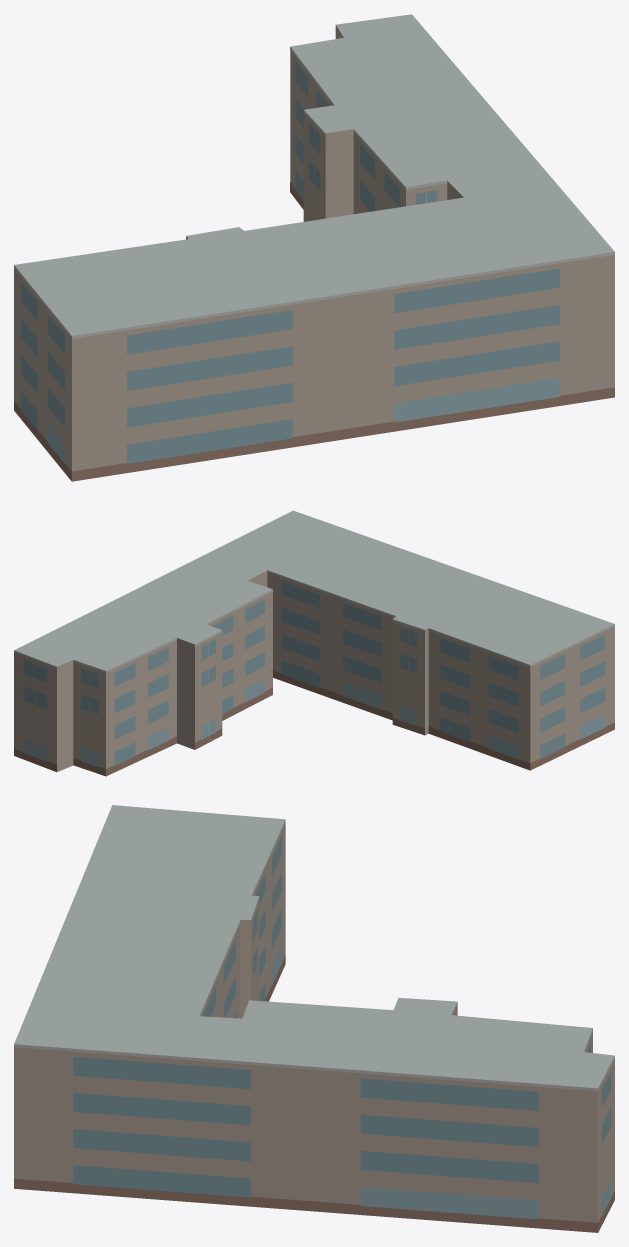
Rendered from survey-upis-32644544.glb.
3 renders of one model, top to bottom at view 1: azimuth 30°, elevation 25°; view 2: azimuth 150°, elevation 25°; view 3: azimuth 270°, elevation 25°, orthographic. The views are drawn at different scales.
Visible parts, largest first — view 1: survey-upis-32644544.tmp; view 2: survey-upis-32644544.tmp; view 3: survey-upis-32644544.tmp.
Boxes of the visible parts, left/top/right/bottom form: survey-upis-32644544.tmp: left=14, top=14, right=614, bottom=481; survey-upis-32644544.tmp: left=14, top=510, right=614, bottom=776; survey-upis-32644544.tmp: left=14, top=805, right=614, bottom=1232.
Bounding box in the file's own units: 51.27 × 12.2 × 45.96.
